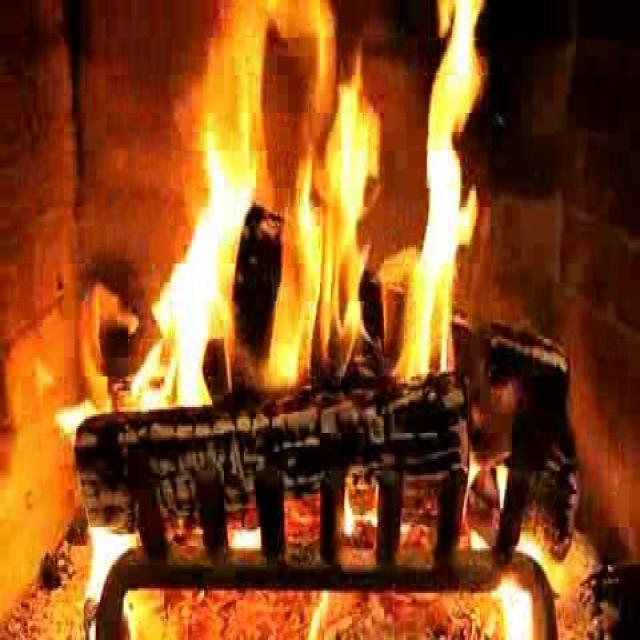Fire: (130, 4, 496, 421)
